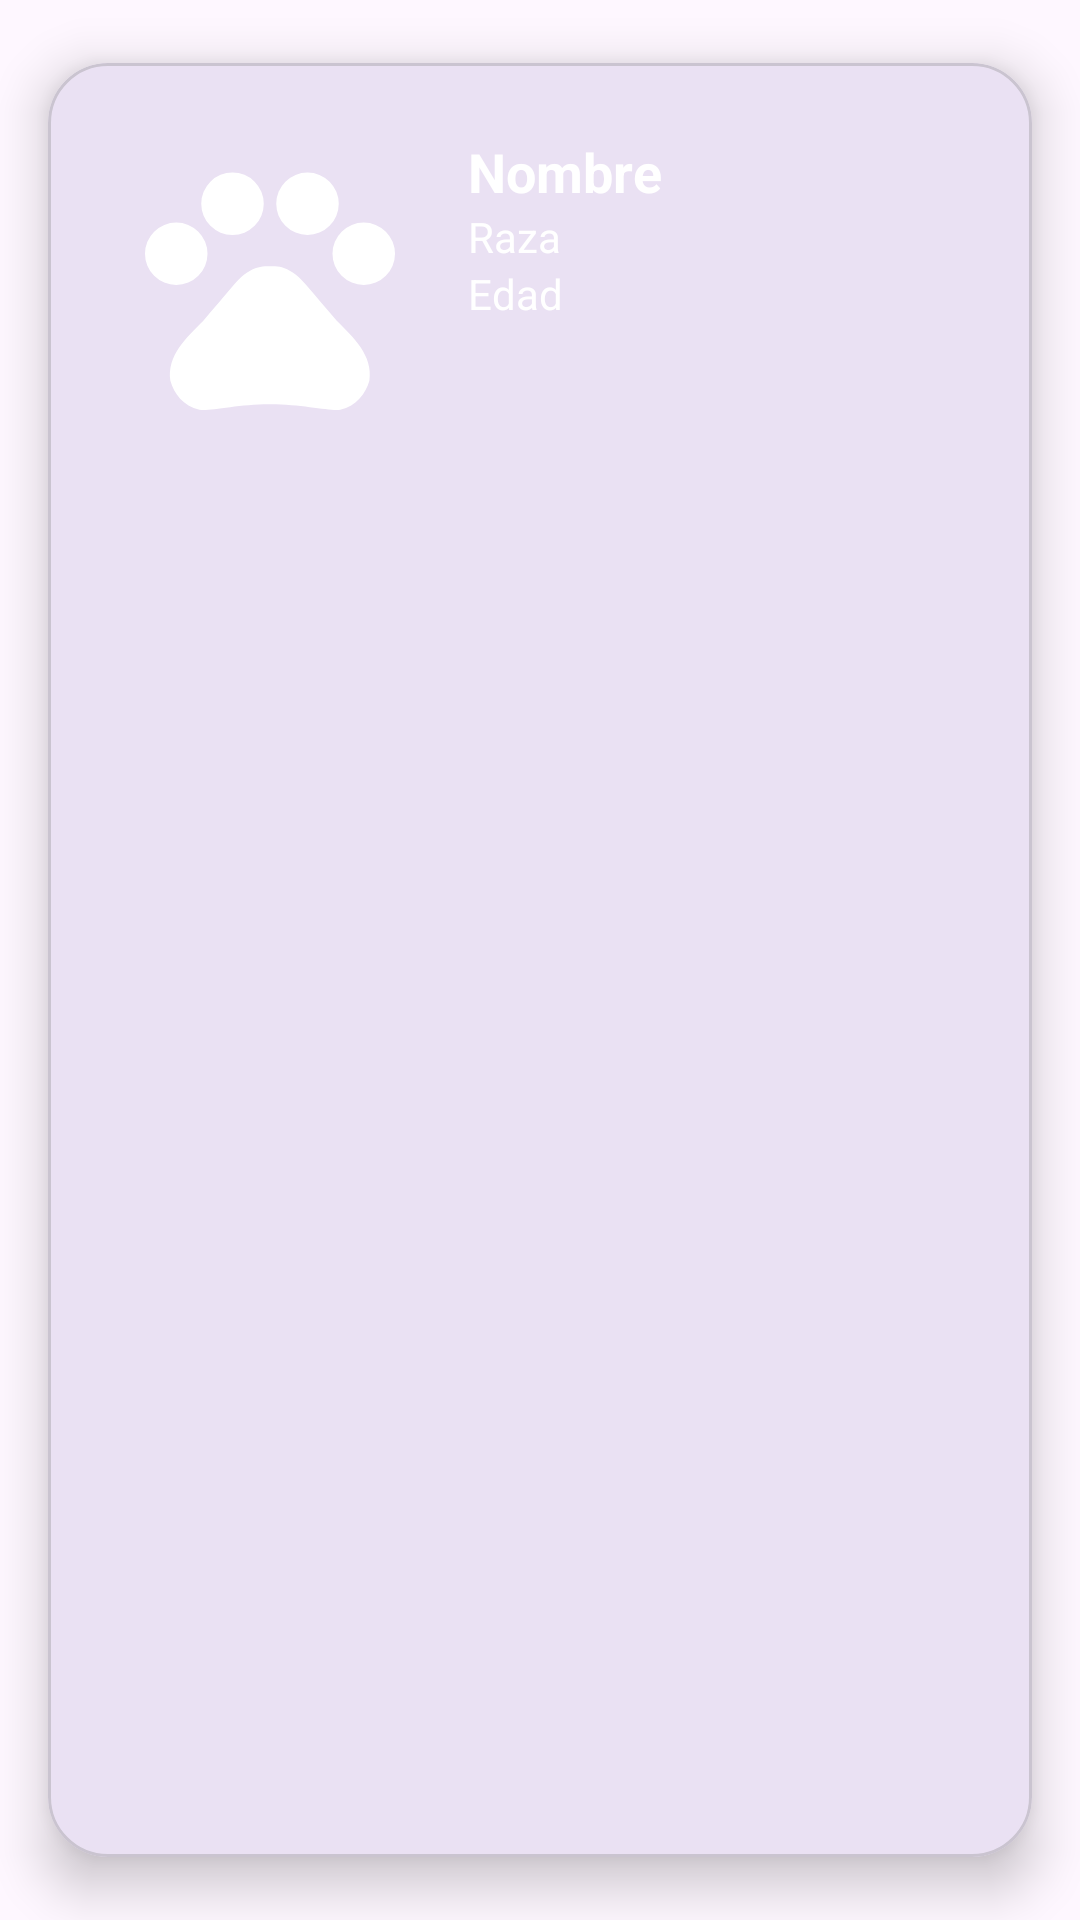

Screen size 1080px x 1920px. Icon name, then its center in pixels as (x=x, y=y):
pets: (x=270, y=291)
